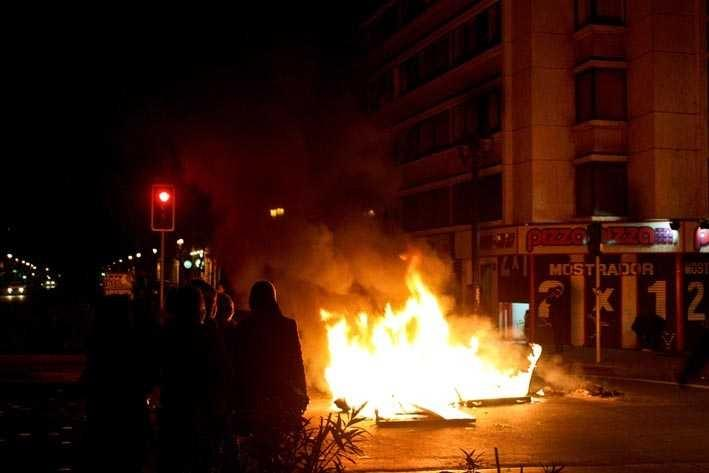fire: (320, 292, 537, 421)
smoke: (192, 96, 409, 274)
